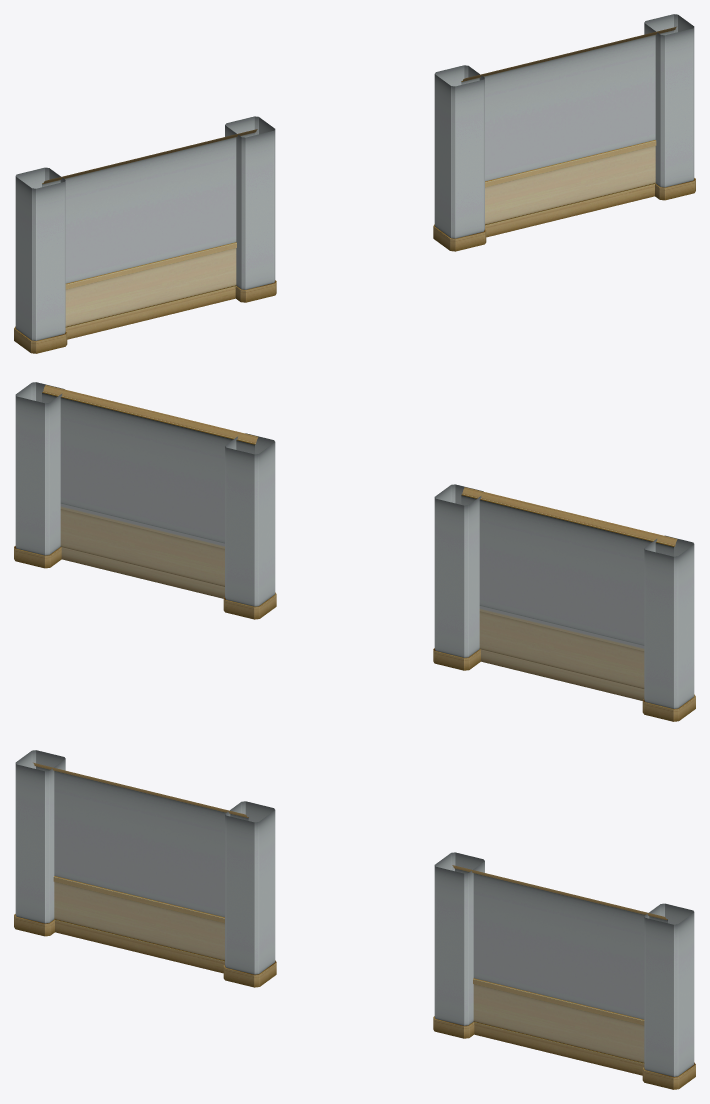
The model's file is Double Stairs (Third Floor) (merge).fbx.
3 views of the same model, one above another, from view 1: azimuth 30°, elevation 25°; view 2: azimuth 150°, elevation 25°; view 3: azimuth 330°, elevation 25° (orthographic).
Visible parts, largest first — view 1: InteriorWall (4), InteriorWall (5), ExteriorColumn (5), ExteriorColumn (3), ExteriorColumn (4), ExteriorColumn (2); view 2: InteriorWall (4), InteriorWall (5), ExteriorColumn (3), ExteriorColumn (5), ExteriorColumn (4), ExteriorColumn (2); view 3: InteriorWall (5), InteriorWall (4), ExteriorColumn (4), ExteriorColumn (2), ExteriorColumn (5), ExteriorColumn (3).
Part boxes in pixels (<box>): InteriorWall (4): <box>42,129,257,339</box>; InteriorWall (5): <box>461,26,676,237</box>; ExteriorColumn (5): <box>433,65,486,251</box>; ExteriorColumn (3): <box>14,167,67,353</box>; ExteriorColumn (4): <box>225,116,276,302</box>; ExteriorColumn (2): <box>644,14,695,200</box>; InteriorWall (4): <box>461,487,677,700</box>; InteriorWall (5): <box>42,385,258,598</box>; ExteriorColumn (3): <box>642,535,695,721</box>; ExteriorColumn (5): <box>223,433,276,619</box>; ExteriorColumn (4): <box>433,484,483,670</box>; ExteriorColumn (2): <box>14,382,64,568</box>; InteriorWall (5): <box>452,865,667,1075</box>; InteriorWall (4): <box>33,762,248,973</box>; ExteriorColumn (4): <box>223,801,276,987</box>; ExteriorColumn (2): <box>642,903,695,1089</box>; ExteriorColumn (5): <box>433,852,484,1038</box>; ExteriorColumn (3): <box>14,750,65,936</box>.
Size of the model in its own units: 12.69 by 3.05 by 0.6916.
2 materials, 2 textured.
